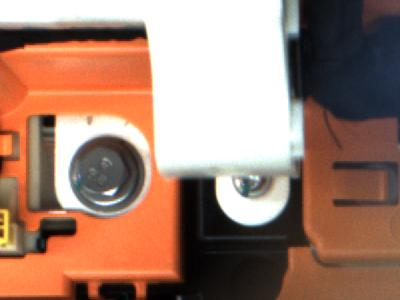nut_b: (63, 134, 153, 215)
